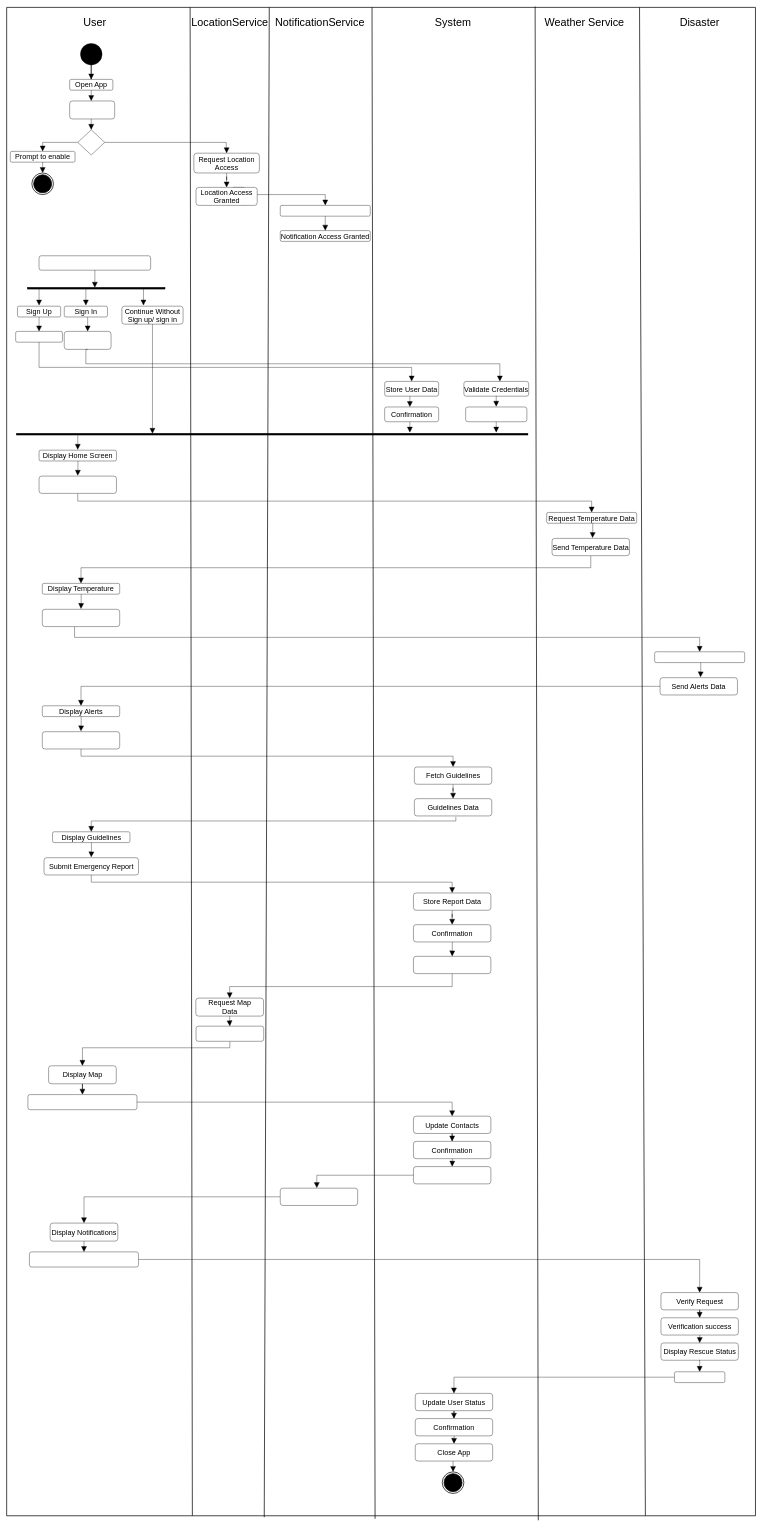
Image size: 762x1527. Some labels were removed from this diagram. Each missing label, with the centre of its shape:
Choose Authentication Method: point (95, 262)
Credentials Valid: point (496, 414)
Display Real Time Temperature: point (77, 484)
Enter Credentials: point (87, 340)
Enter Details: point (38, 336)
Fetch Map Data: point (230, 1033)
Grant Permisson: point (92, 110)
Logout: point (699, 1377)
Manage Emergency Contacts: point (82, 1102)
Receive Notifications: point (452, 1175)
Request Alerts Data: point (699, 657)
Request Emergency Help: point (83, 1259)
Request Notification Access: point (325, 210)
Send Notifications: point (319, 1196)
View Disaster Alerts: point (81, 618)
View Real Time Map: point (452, 965)
View Safety Guidelines: point (81, 740)
